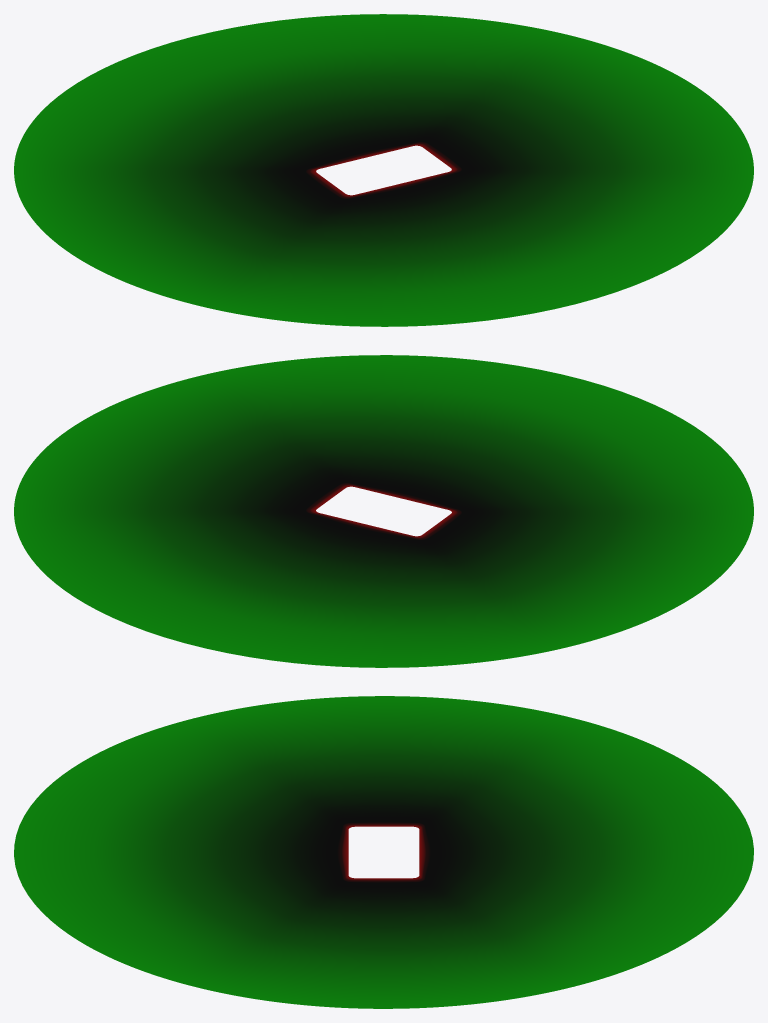
The model's file is SM_Env_S_SeaRing.fbx.
3 renders of one model, top to bottom at view 1: azimuth 30°, elevation 25°; view 2: azimuth 150°, elevation 25°; view 3: azimuth 270°, elevation 25°, orthographic.
Parts seen in each view (by area): view 1: SM_Env_S_SeaRing; view 2: SM_Env_S_SeaRing; view 3: SM_Env_S_SeaRing.
Boxes of the visible parts, x1,y1,x2,y2 form: SM_Env_S_SeaRing: [14, 14, 753, 326]; SM_Env_S_SeaRing: [14, 355, 753, 667]; SM_Env_S_SeaRing: [14, 696, 753, 1008].
Bounding box in the file's own units: 8999 × 8998 × 0.
